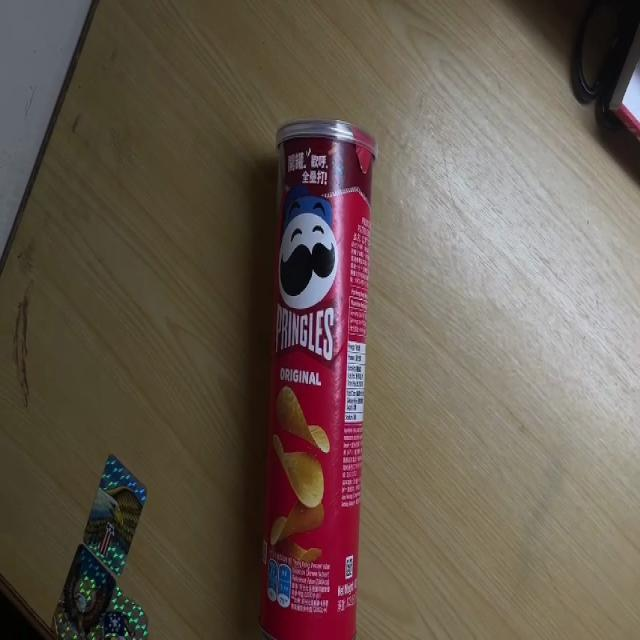Pringles: (257, 117, 378, 640)
